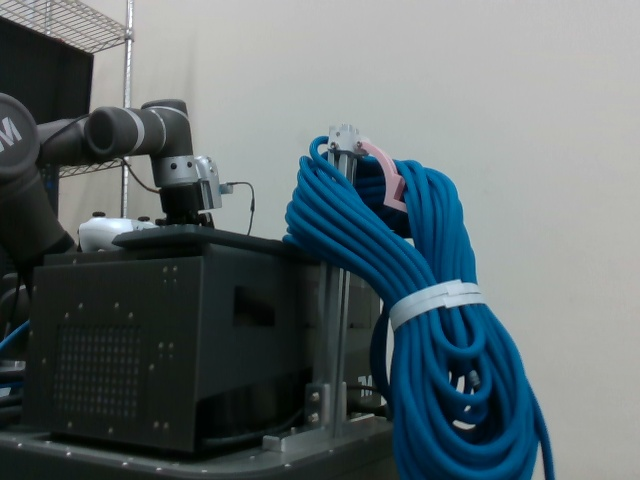rope: (283, 135, 559, 480)
